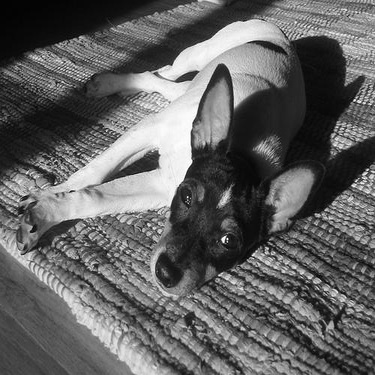dog: (5, 13, 333, 305)
